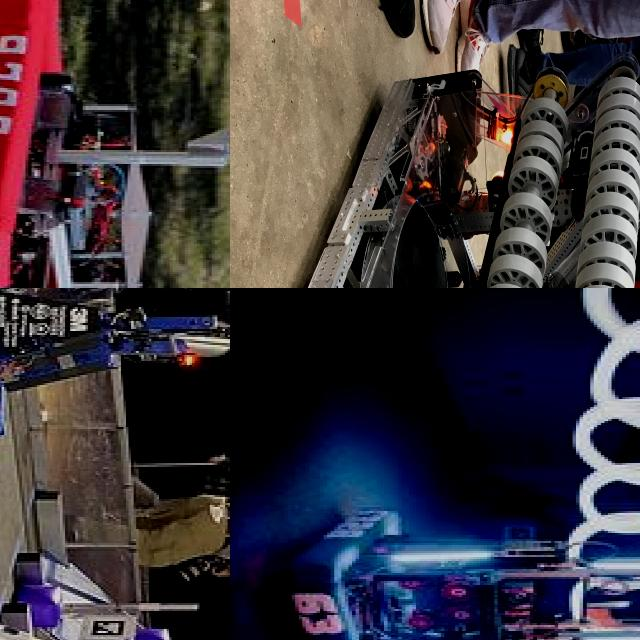FRC-Robots: (268, 29, 640, 288), (0, 0, 230, 288), (295, 496, 640, 640), (0, 288, 230, 456)
